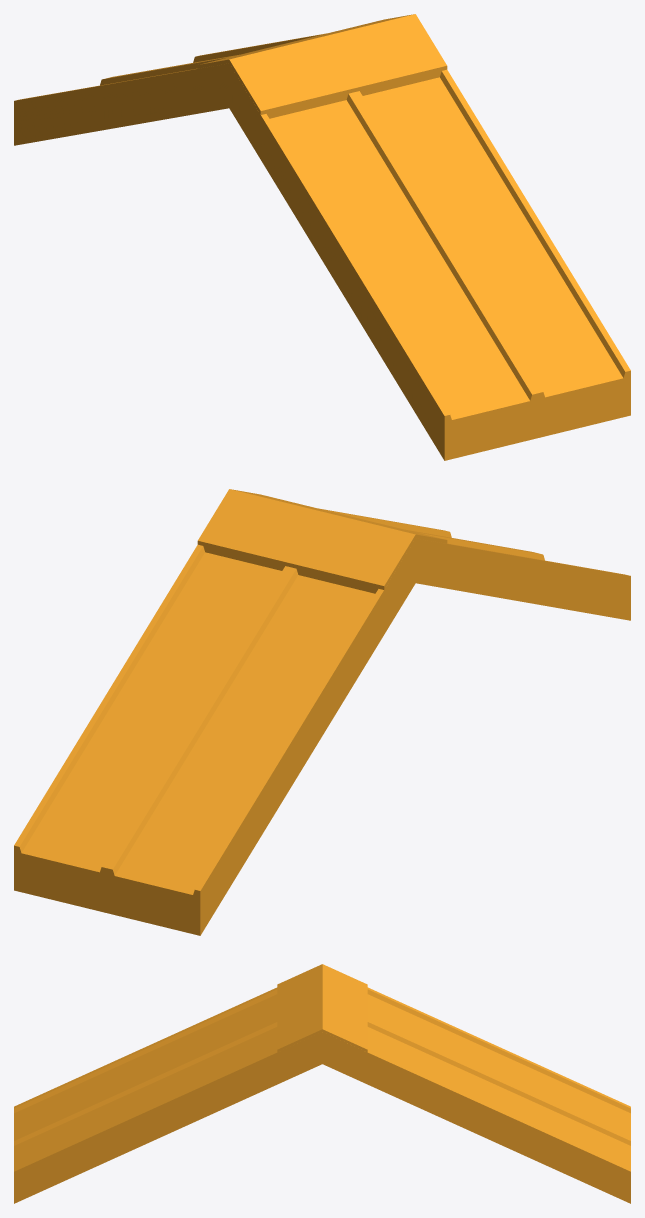
Rendered from SM_Roof_Metal_Moderate_1x2m_Center.fbx.
The picture shows the model from 3 angles, top to bottom: view 1: azimuth 30°, elevation 25°; view 2: azimuth 150°, elevation 25°; view 3: azimuth 270°, elevation 25°; orthographic projection. The views are drawn at different scales.
Visible parts, largest first — view 1: roof-metal-moderate-1x2m-center; view 2: roof-metal-moderate-1x2m-center; view 3: roof-metal-moderate-1x2m-center.
Part boxes in pixels (<box>): roof-metal-moderate-1x2m-center: <box>14,14,630,460</box>; roof-metal-moderate-1x2m-center: <box>14,489,630,935</box>; roof-metal-moderate-1x2m-center: <box>14,964,630,1203</box>.
Bounding box in the file's own units: 1 × 1.25 × 4.
